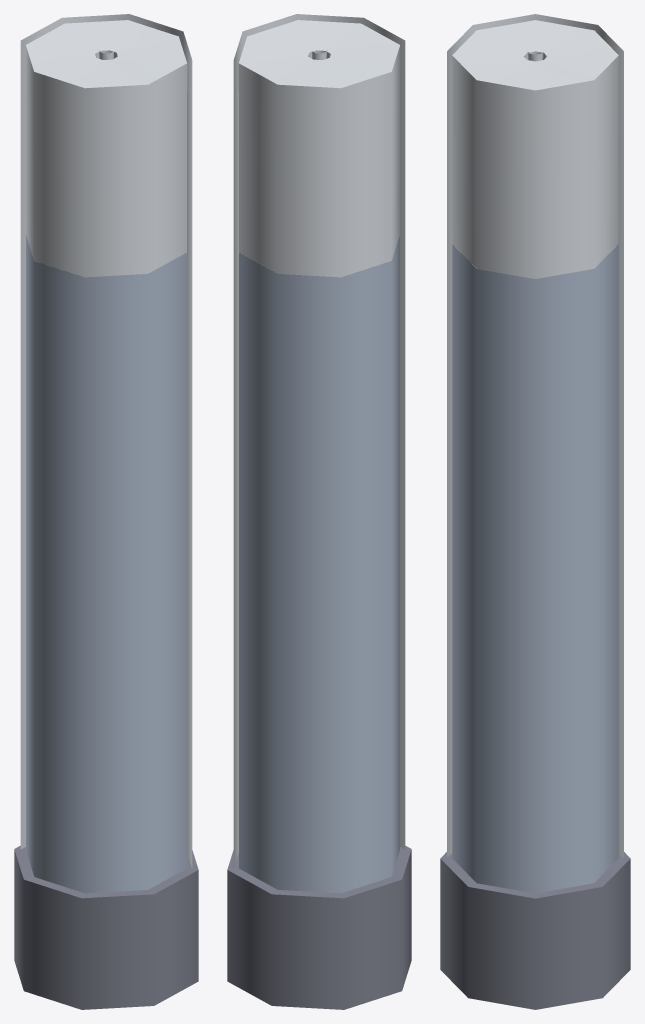
File: Bottle Lipstick.glb
3 views of the same model, side by side, from view 1: azimuth 30°, elevation 25°; view 2: azimuth 150°, elevation 25°; view 3: azimuth 270°, elevation 25° (orthographic).
Parts seen in each view (by area): view 1: bottle_lipstick.003, bottle_lipstick_cap.003; view 2: bottle_lipstick.003, bottle_lipstick_cap.003; view 3: bottle_lipstick.003, bottle_lipstick_cap.003.
Part boxes in pixels (<box>): bottle_lipstick.003: <box>14,234,198,1009</box>; bottle_lipstick_cap.003: <box>20,14,192,868</box>; bottle_lipstick.003: <box>227,234,411,1009</box>; bottle_lipstick_cap.003: <box>233,14,405,868</box>; bottle_lipstick.003: <box>440,244,630,1009</box>; bottle_lipstick_cap.003: <box>447,14,623,857</box>.
Size of the model in its own units: 3.17 by 16.9 by 3.17.
2 materials, 2 textured.
